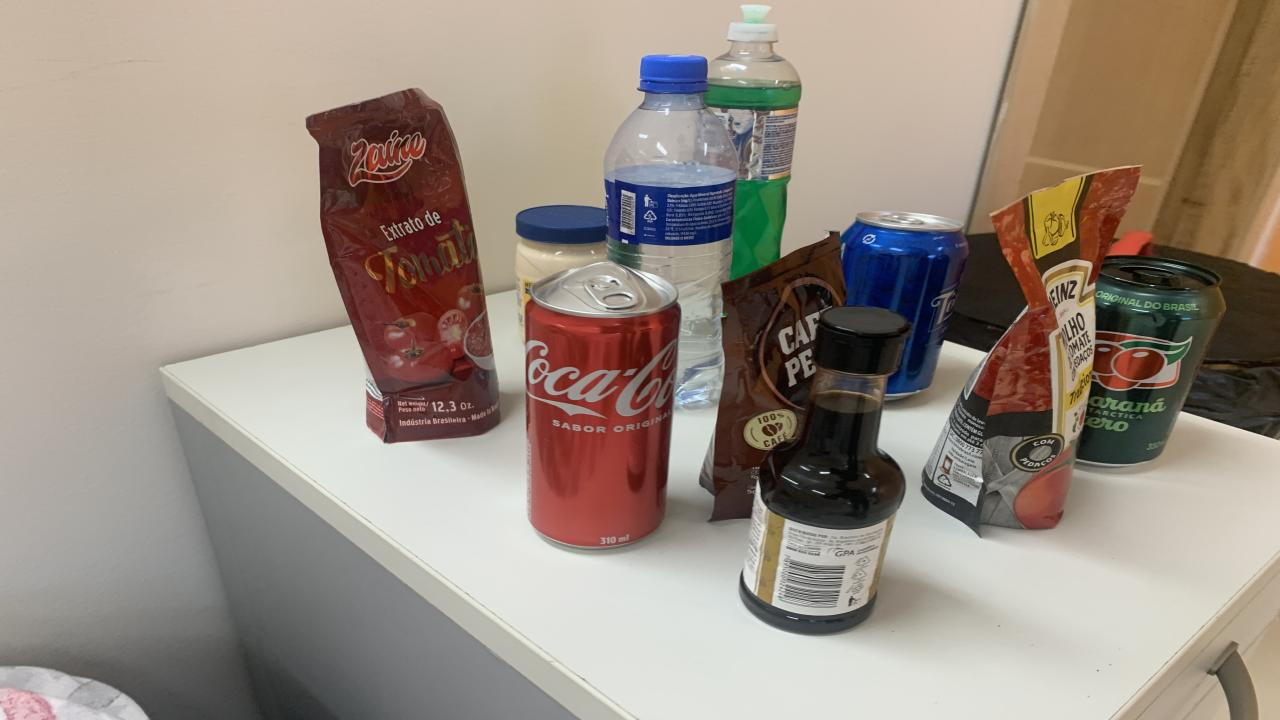Coffee-Pantry_Items: (700, 234, 845, 521)
Coke-Drinks: (525, 262, 680, 549)
Detergent-Cleanup_Items: (705, 41, 802, 278), (730, 6, 778, 38)
English_Sauce-Pantry_Items: (740, 308, 910, 634)
Guarana_Can-Drinks: (1078, 255, 1225, 467)
Mayonnaise-Pantry_Items: (515, 204, 608, 338)
Tomato_Sauce-Pantry_Items: (922, 167, 1140, 531), (308, 88, 500, 442)
Tonic-Drinks: (840, 212, 968, 399)
Water_Bottle-Drinks: (605, 54, 738, 409)
